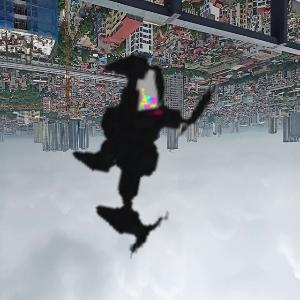drone: (4, 4, 299, 299)
